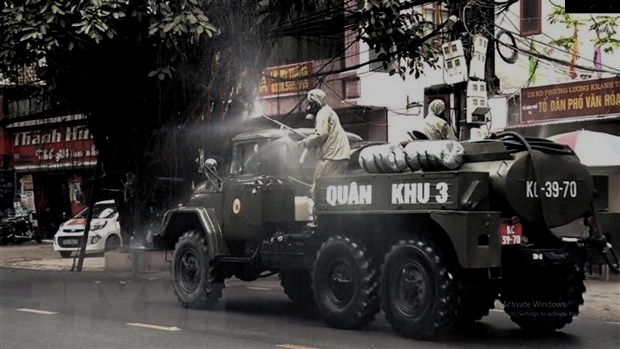plate: (497, 221, 525, 248), (62, 237, 81, 246)
